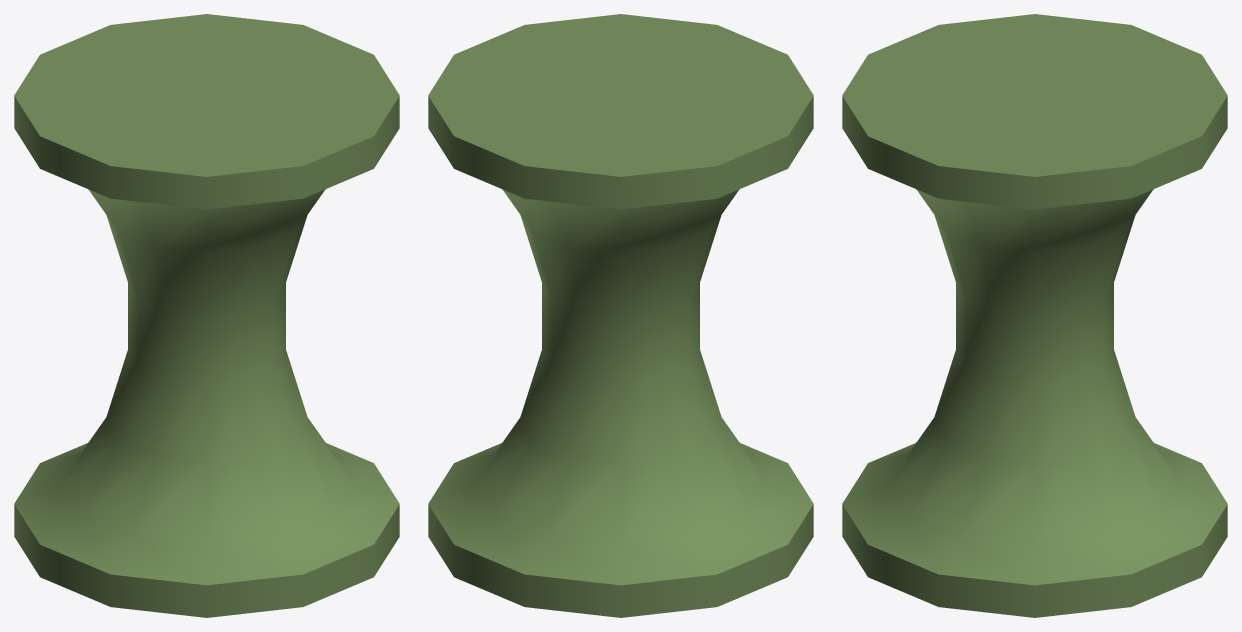
The model's file is Chair_03.fbx.
3 views of the same model, side by side, from view 1: azimuth 30°, elevation 25°; view 2: azimuth 150°, elevation 25°; view 3: azimuth 270°, elevation 25° (orthographic).
Visible parts, largest first — view 1: Chair_03; view 2: Chair_03; view 3: Chair_03.
Part boxes in pixels (x1,y1,x2,y2): Chair_03: [14, 14, 399, 617]; Chair_03: [428, 14, 813, 617]; Chair_03: [842, 14, 1227, 617].
Bounding box in the file's own units: 0.5005 × 0.6315 × 0.5005.
